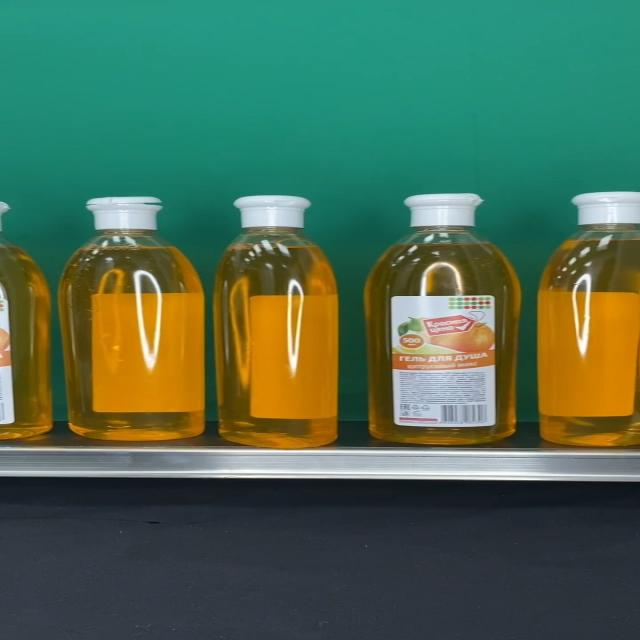Bottle: (364, 194, 522, 444), (59, 196, 204, 440), (213, 196, 338, 448)
Cap: (85, 196, 162, 230), (404, 195, 482, 228), (232, 196, 310, 228)
